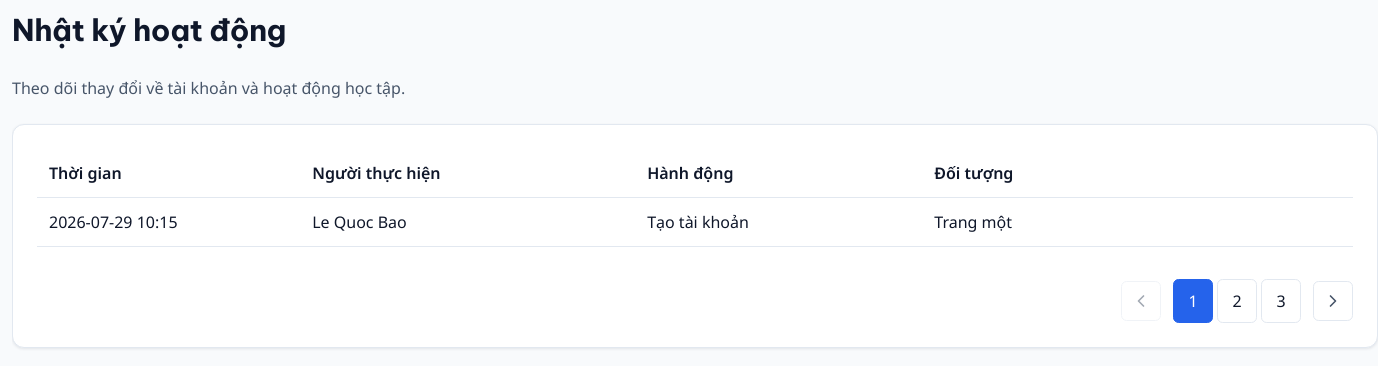
Test case: Audit log page › asks the server for the next page instead of loading the whole log
This screenshot has width=1378, height=366.
Expected: the text "Trang một" is shown, [934, 211, 1012, 233]
Click the button named "Page 2" at (1237,301), box [1217, 279, 1257, 323]
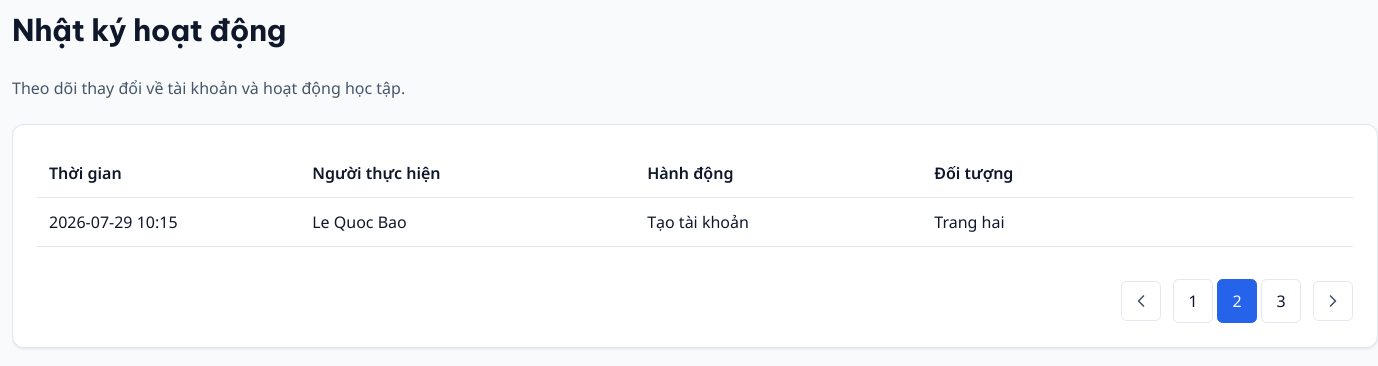
Now the text "Trang hai" is shown, box [934, 211, 1005, 233]
